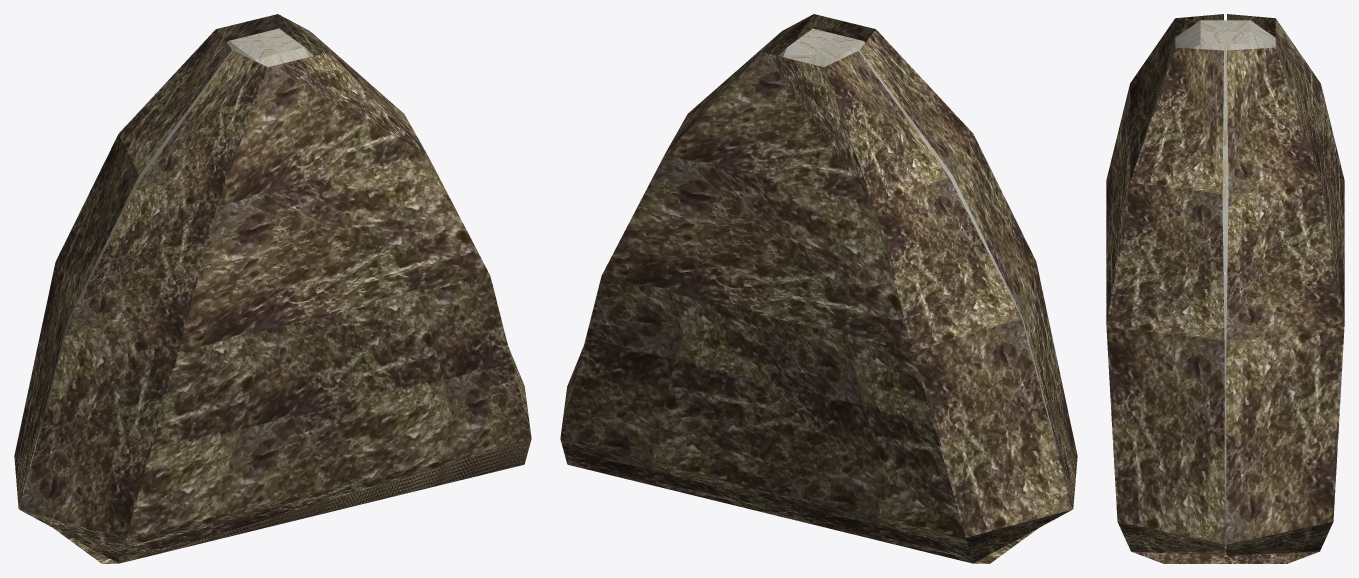
Rendered from riceball2.fbx.
The picture shows the model from 3 angles, left to right: view 1: azimuth 30°, elevation 25°; view 2: azimuth 150°, elevation 25°; view 3: azimuth 270°, elevation 25°; orthographic projection. The views are drawn at different scales.
Parts seen in each view (by area): view 1: pCube2, pCube1; view 2: pCube2, pCube1; view 3: pCube2, pCube1.
Part boxes in pixels (<box>): pCube2: <box>14,14,531,563</box>; pCube1: <box>34,28,313,450</box>; pCube2: <box>560,14,1077,563</box>; pCube1: <box>778,28,1058,457</box>; pCube2: <box>1106,14,1344,563</box>; pCube1: <box>1175,20,1275,542</box>.
Bounding box in the file's own units: 12.87 × 10.97 × 5.43.
Materials: 2 (2 with a texture image).
